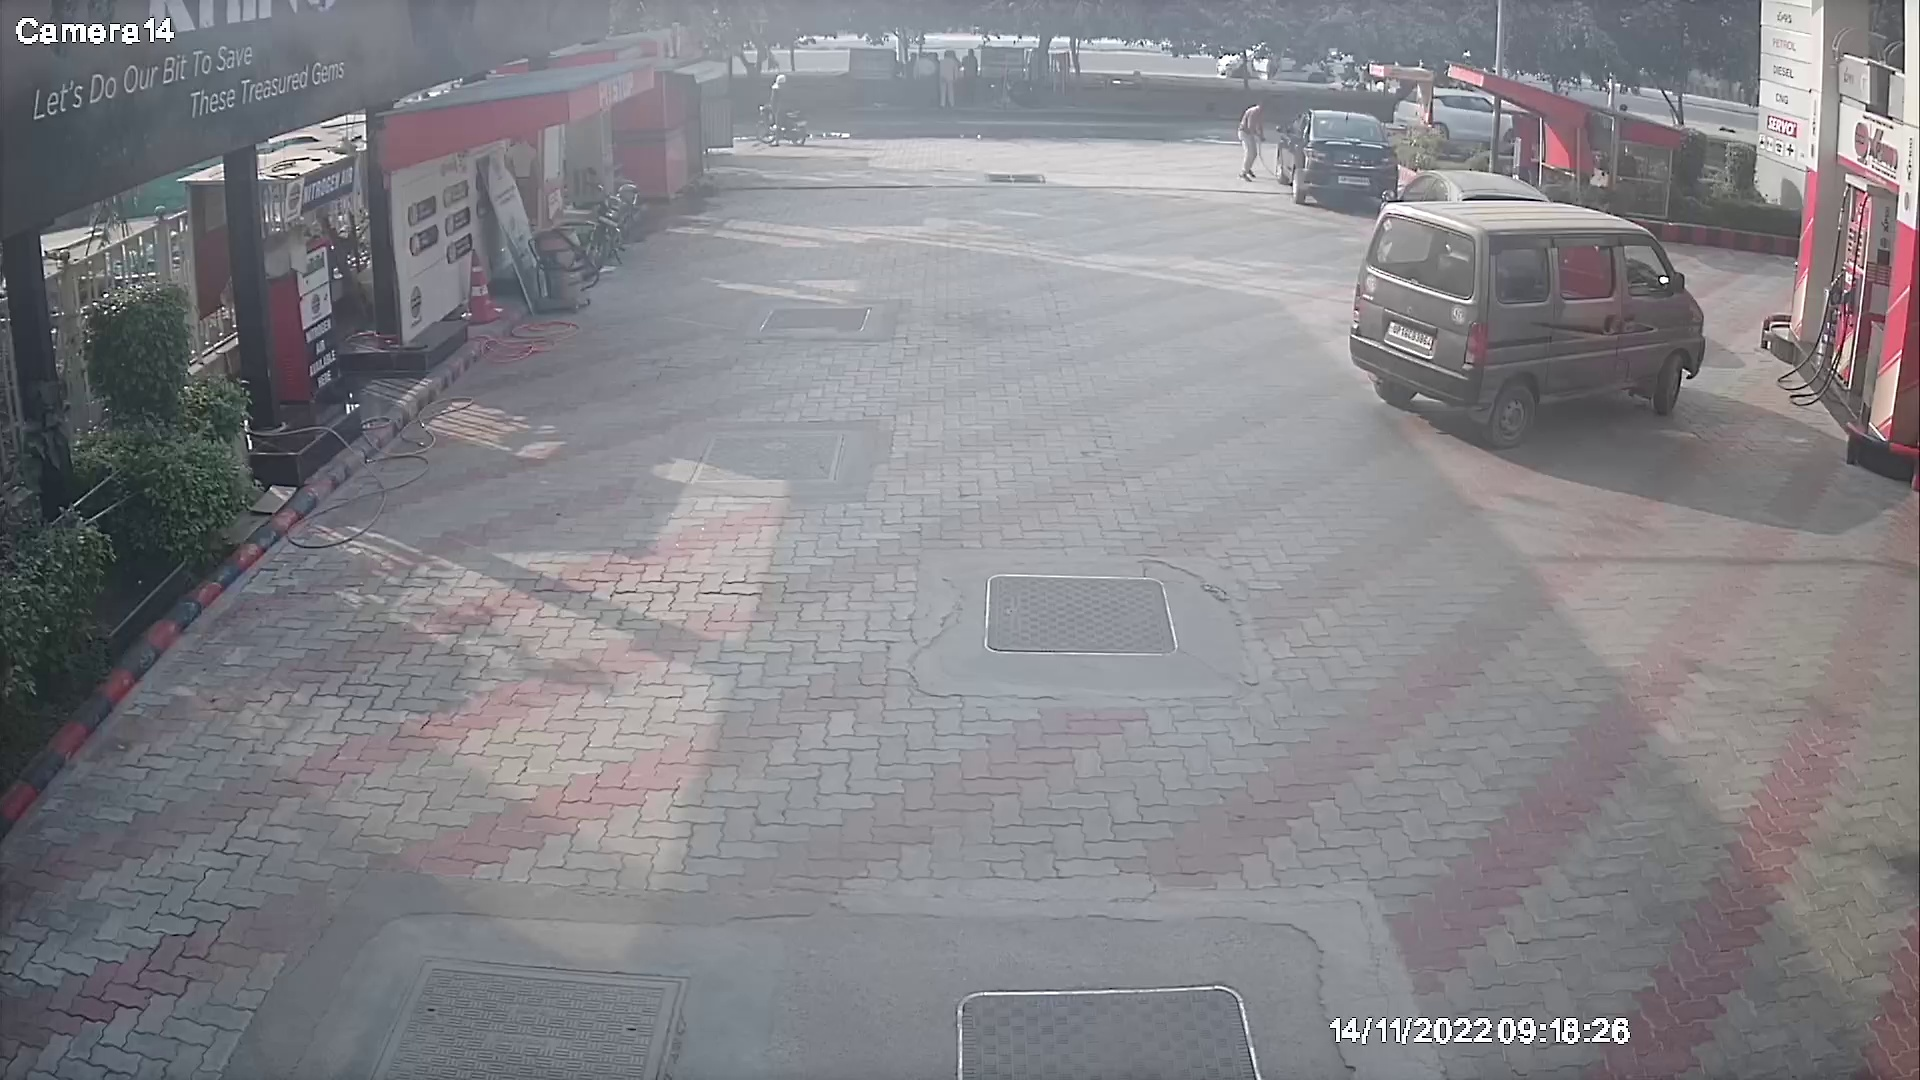Bike: (567, 164, 647, 291), (740, 66, 818, 164)
Car: (1333, 178, 1710, 442), (1266, 96, 1444, 210), (1386, 67, 1524, 171), (1369, 160, 1569, 210)
Others: (1230, 90, 1273, 191)
